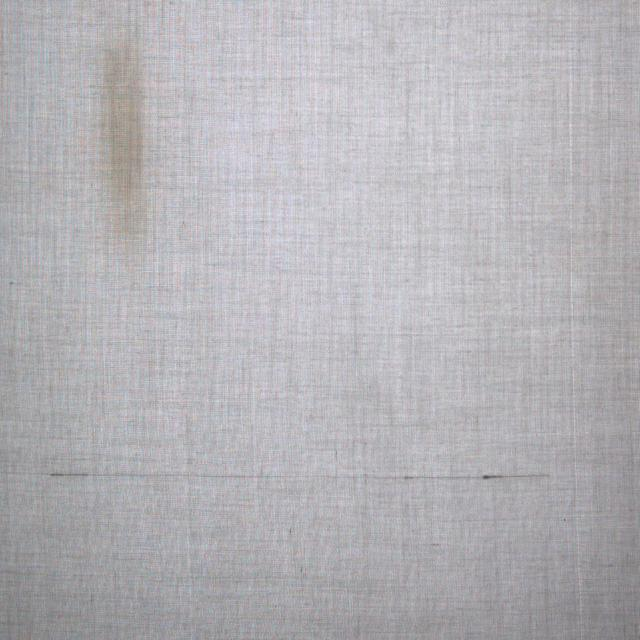dirty: (104, 45, 145, 208)
